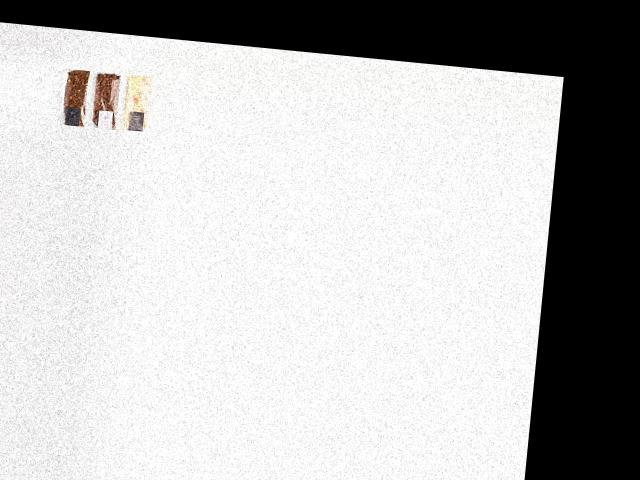chocolate: (57, 65, 89, 126)
